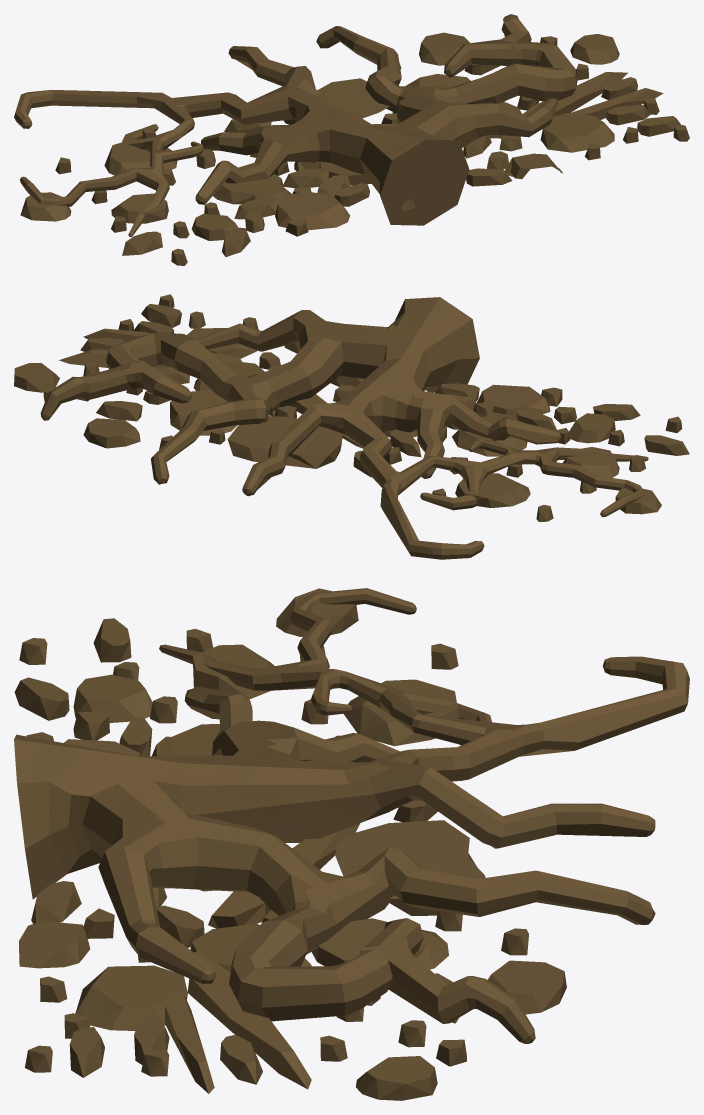
File: EA_Swamp_Dirt_Root_Half_04a.glb
The picture shows the model from 3 angles, top to bottom: view 1: azimuth 30°, elevation 25°; view 2: azimuth 150°, elevation 25°; view 3: azimuth 270°, elevation 25°; orthographic projection. The views are drawn at different scales.
Parts seen in each view (by area): view 1: EA_Swamp_Dirt_Root_Half_04a; view 2: EA_Swamp_Dirt_Root_Half_04a; view 3: EA_Swamp_Dirt_Root_Half_04a.
Boxes of the visible parts, bbox=[...] form: EA_Swamp_Dirt_Root_Half_04a: bbox=[14, 14, 689, 265]; EA_Swamp_Dirt_Root_Half_04a: bbox=[14, 294, 689, 559]; EA_Swamp_Dirt_Root_Half_04a: bbox=[14, 588, 689, 1100].
Bounding box in the file's own units: 8.81 × 1.25 × 5.05.
Materials: 1 (1 with a texture image).
